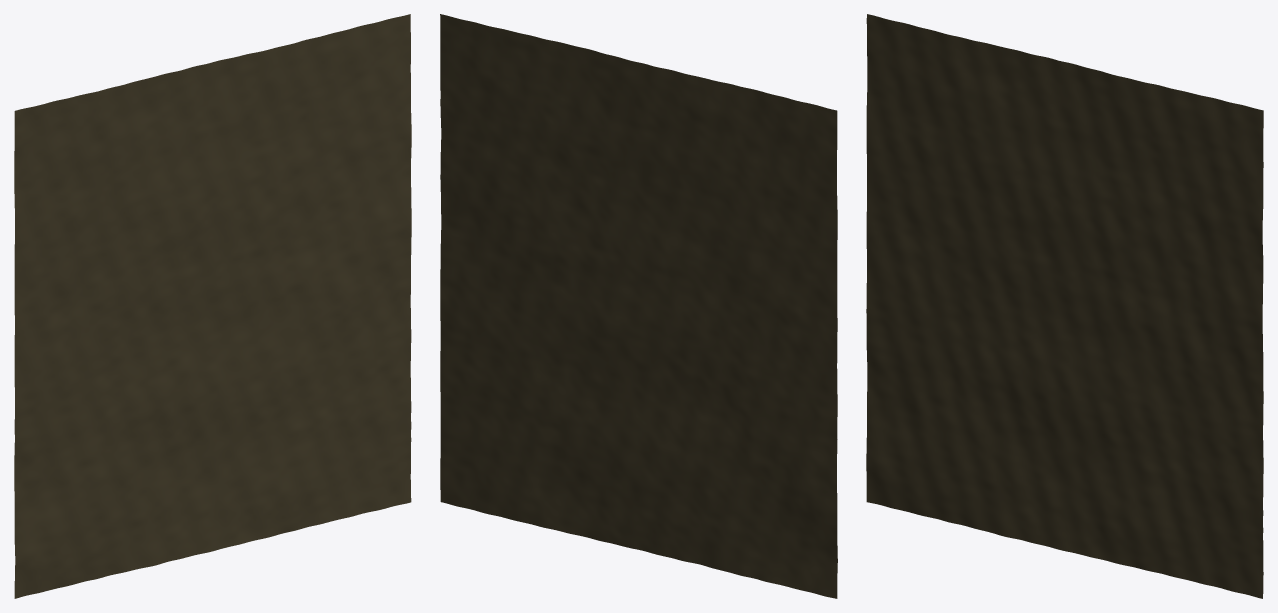
Rendered from 01_seabed.obj.
3 renders of one model, left to right at view 1: azimuth 30°, elevation 25°; view 2: azimuth 150°, elevation 25°; view 3: azimuth 330°, elevation 25°, orthographic.
Parts seen in each view (by area): view 1: 01_seabed; view 2: 01_seabed; view 3: 01_seabed.
Part boxes in pixels (<box>): 01_seabed: <box>14,14,411,598</box>; 01_seabed: <box>440,14,837,598</box>; 01_seabed: <box>866,14,1263,598</box>.
Size of the model in its own units: 34 by 40 by 0.2708.
